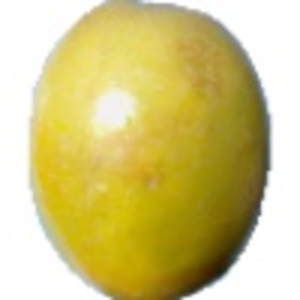maracujá: (24, 1, 273, 300)
